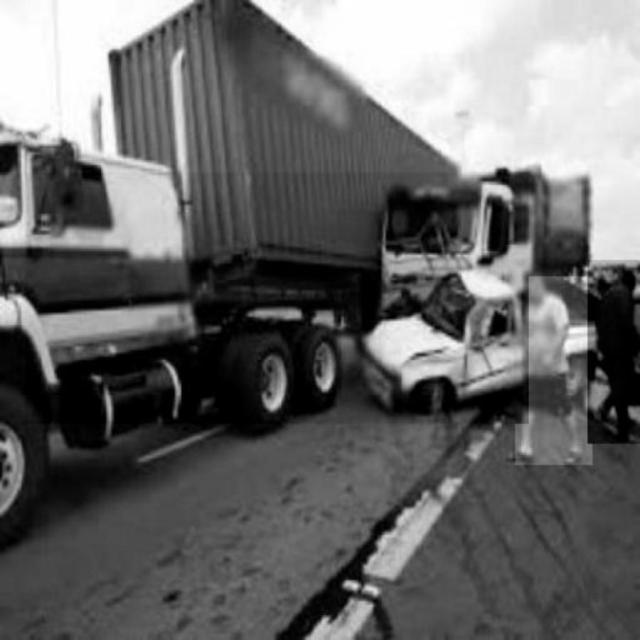accident: (25, 173, 529, 424)
person: (516, 276, 593, 464), (588, 260, 640, 444)
